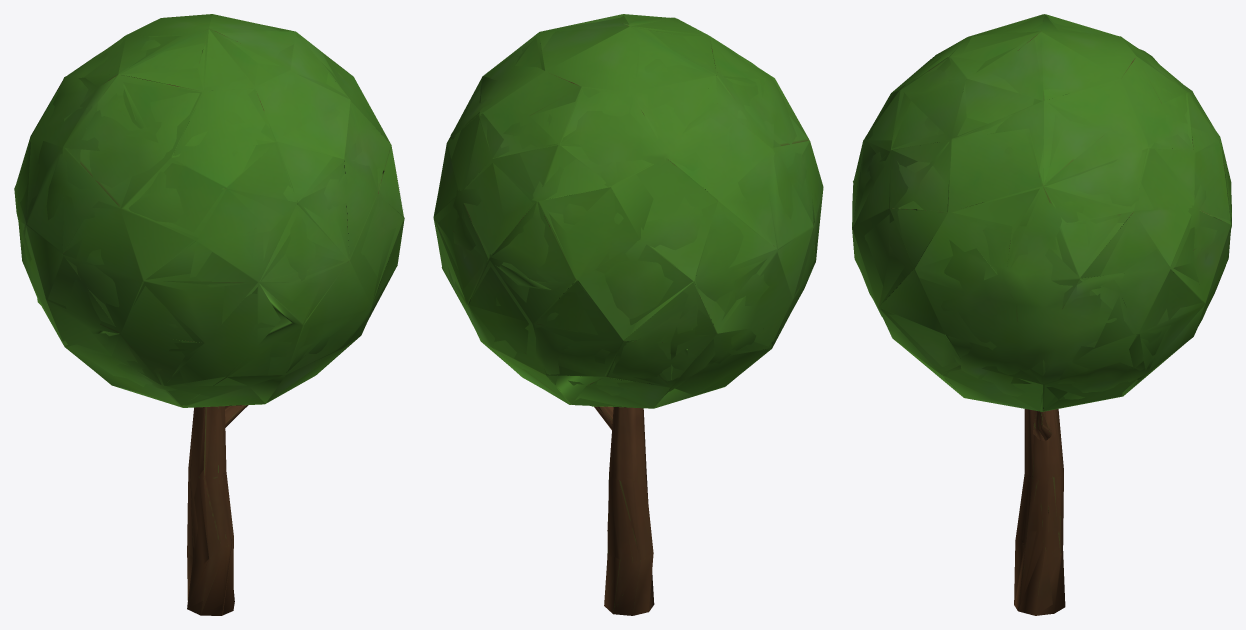
File: 42-round-leafy-tree.glb
3 renders of one model, left to right at view 1: azimuth 30°, elevation 25°; view 2: azimuth 150°, elevation 25°; view 3: azimuth 270°, elevation 25°, orthographic.
Parts seen in each view (by area): view 1: geometry_0; view 2: geometry_0; view 3: geometry_0.
Part boxes in pixels (x1,y1,x2,y2): geometry_0: [14, 14, 404, 615]; geometry_0: [433, 14, 823, 615]; geometry_0: [852, 14, 1231, 615].
Bounding box in the file's own units: 0.5747 × 0.9517 × 0.5713.
Materials: 1 (1 with a texture image).
